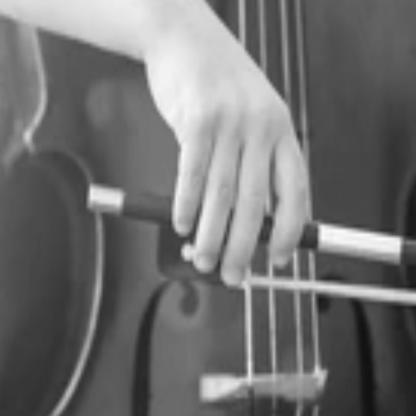good: (151, 48, 310, 300)
